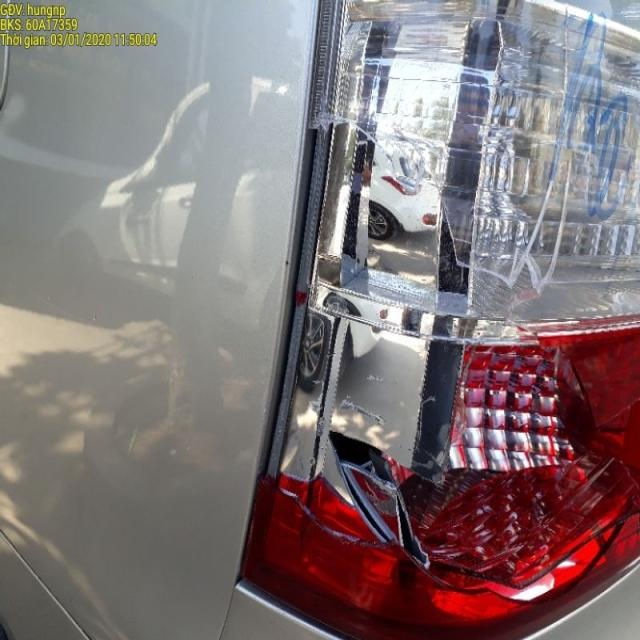Phare abime: (316, 106, 498, 564), (318, 416, 419, 570)
